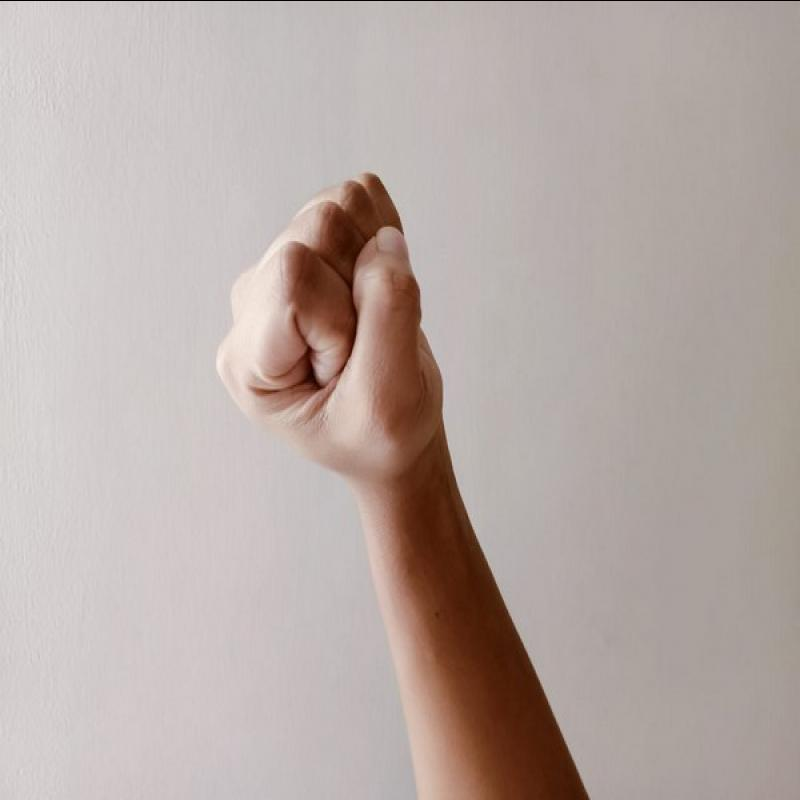Mushti: (181, 152, 485, 497)
